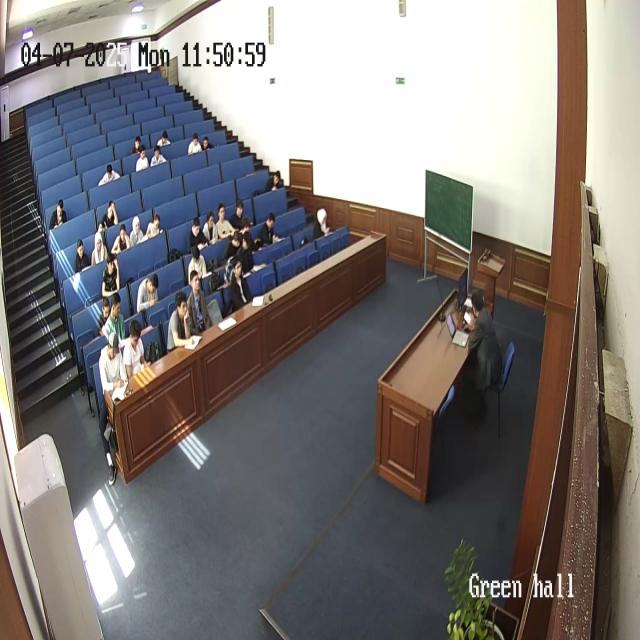person: (96, 331, 128, 481), (462, 290, 504, 394), (185, 269, 212, 337), (166, 292, 196, 351), (121, 319, 149, 382), (227, 258, 253, 313), (102, 292, 128, 346), (222, 229, 244, 283), (136, 271, 160, 315), (101, 250, 121, 298), (186, 241, 208, 283), (237, 225, 256, 273), (259, 212, 281, 248), (187, 217, 207, 255), (215, 203, 235, 239), (90, 228, 108, 266), (231, 199, 251, 232), (96, 296, 112, 337), (74, 239, 91, 274), (112, 224, 130, 257), (313, 208, 331, 241), (202, 212, 219, 246), (50, 198, 68, 230), (102, 200, 120, 230), (144, 212, 163, 240), (98, 163, 120, 186), (130, 216, 146, 247), (134, 145, 150, 172), (149, 143, 167, 167), (188, 132, 203, 154), (267, 170, 282, 191), (130, 136, 144, 156), (156, 131, 171, 149), (202, 134, 212, 151)
